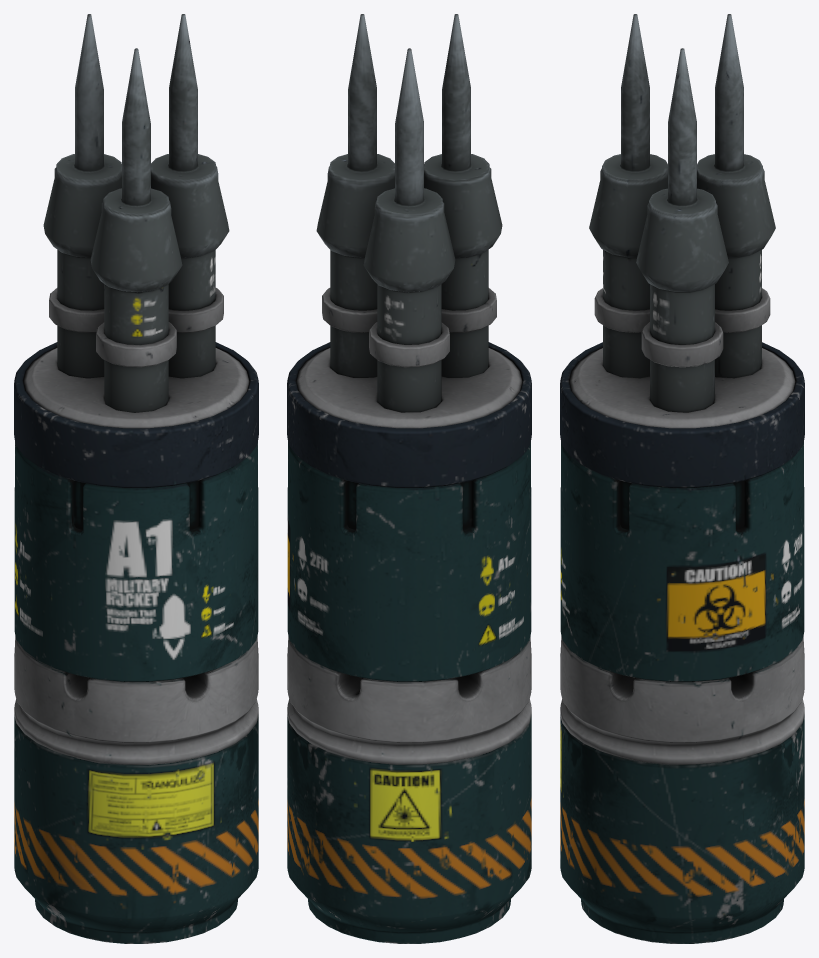
Rendered from SM_Missile03.fbx.
3 renders of one model, left to right at view 1: azimuth 30°, elevation 25°; view 2: azimuth 150°, elevation 25°; view 3: azimuth 270°, elevation 25°, orthographic.
Visible parts, largest first — view 1: SM_Missile03_LOD0; view 2: SM_Missile03_LOD0; view 3: SM_Missile03_LOD0.
Boxes of the visible parts, x1,y1,x2,y2 form: SM_Missile03_LOD0: (14,14,258,943); SM_Missile03_LOD0: (287,14,531,943); SM_Missile03_LOD0: (560,14,804,943).
Bounding box in the file's own units: 21.78 × 21.81 × 86.1.
1 material, 1 textured.
